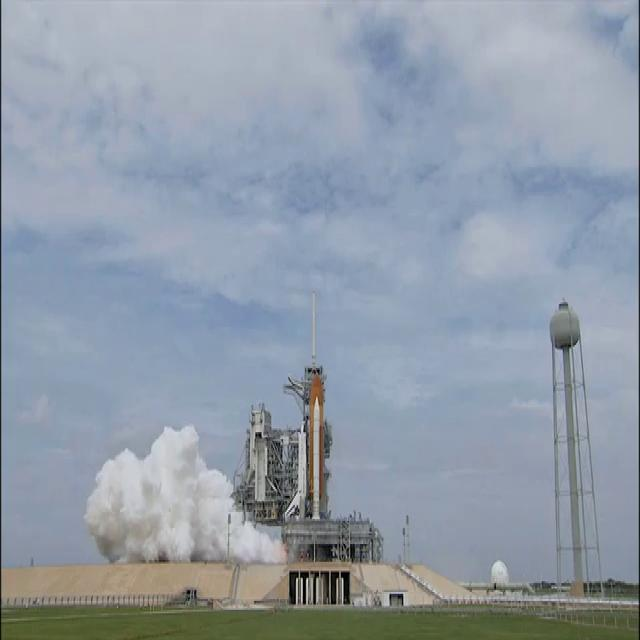smoke: (170, 468, 208, 505), (113, 494, 139, 543), (143, 486, 168, 528), (232, 515, 253, 562), (88, 496, 112, 534), (212, 514, 231, 560), (210, 478, 232, 516), (120, 448, 144, 482), (185, 506, 208, 540), (255, 531, 279, 561), (97, 467, 122, 492), (157, 536, 180, 561), (178, 428, 195, 458), (150, 450, 165, 478), (492, 558, 508, 584), (100, 540, 122, 558), (159, 430, 174, 456), (126, 546, 147, 560), (190, 540, 204, 558)
